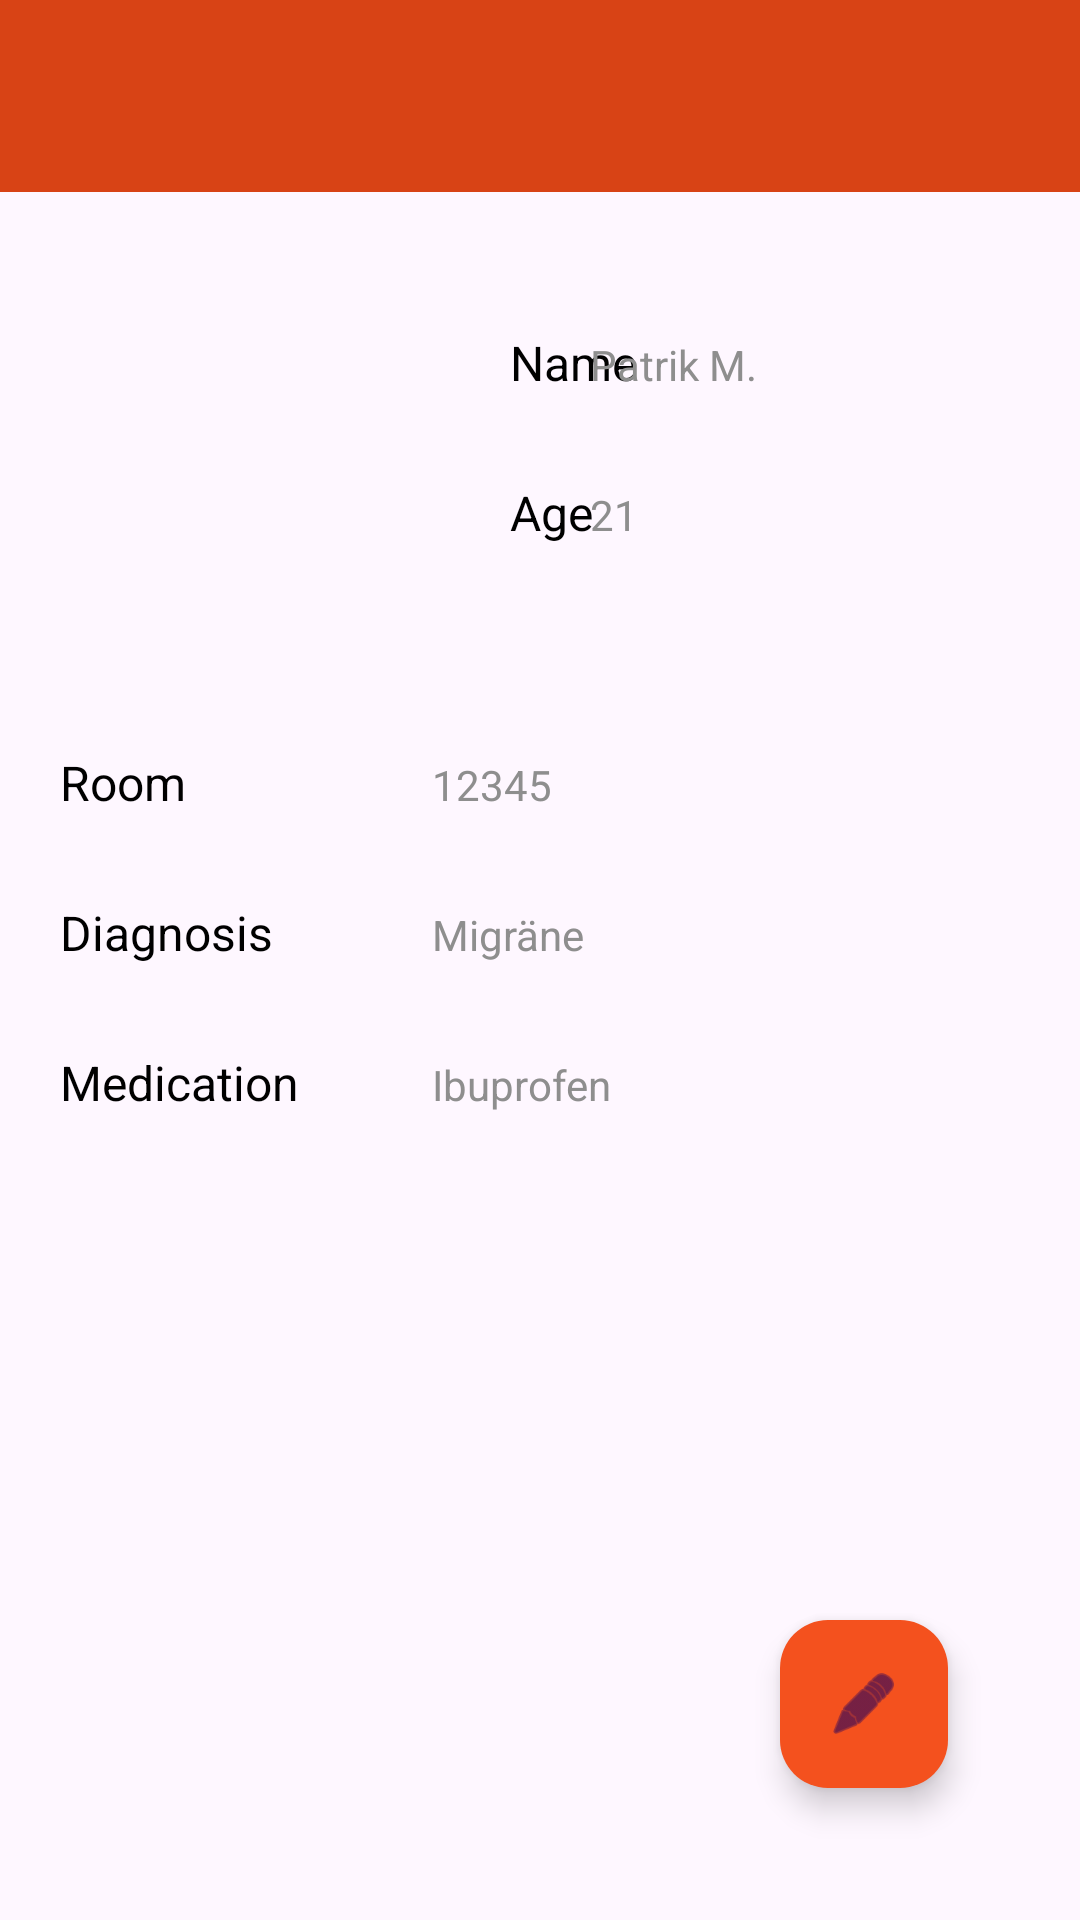

Icon click points for this 1080w x 1920h phone screenshot, format (x,y):
edit: (864,1704)
